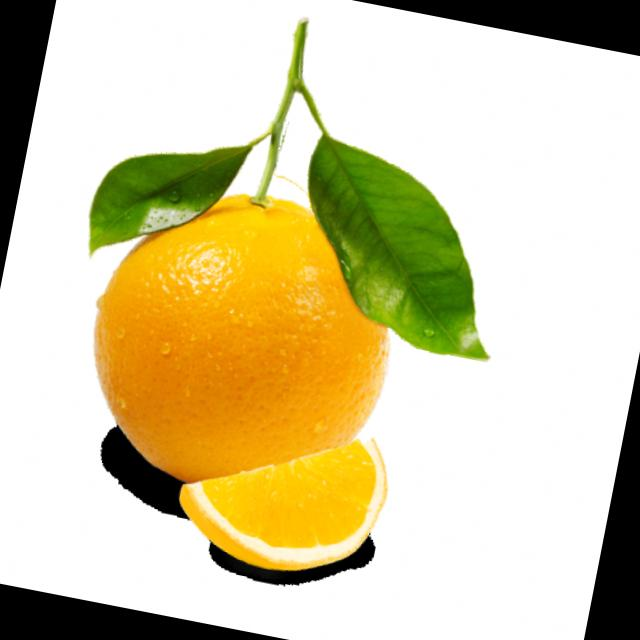orange: (70, 156, 410, 515)
